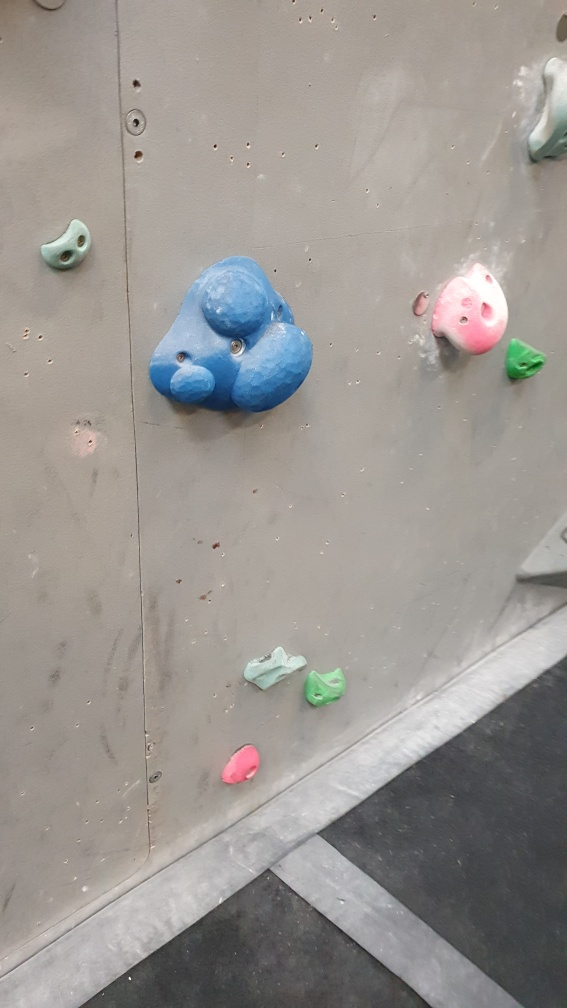Sloper: (148, 256, 314, 414)
